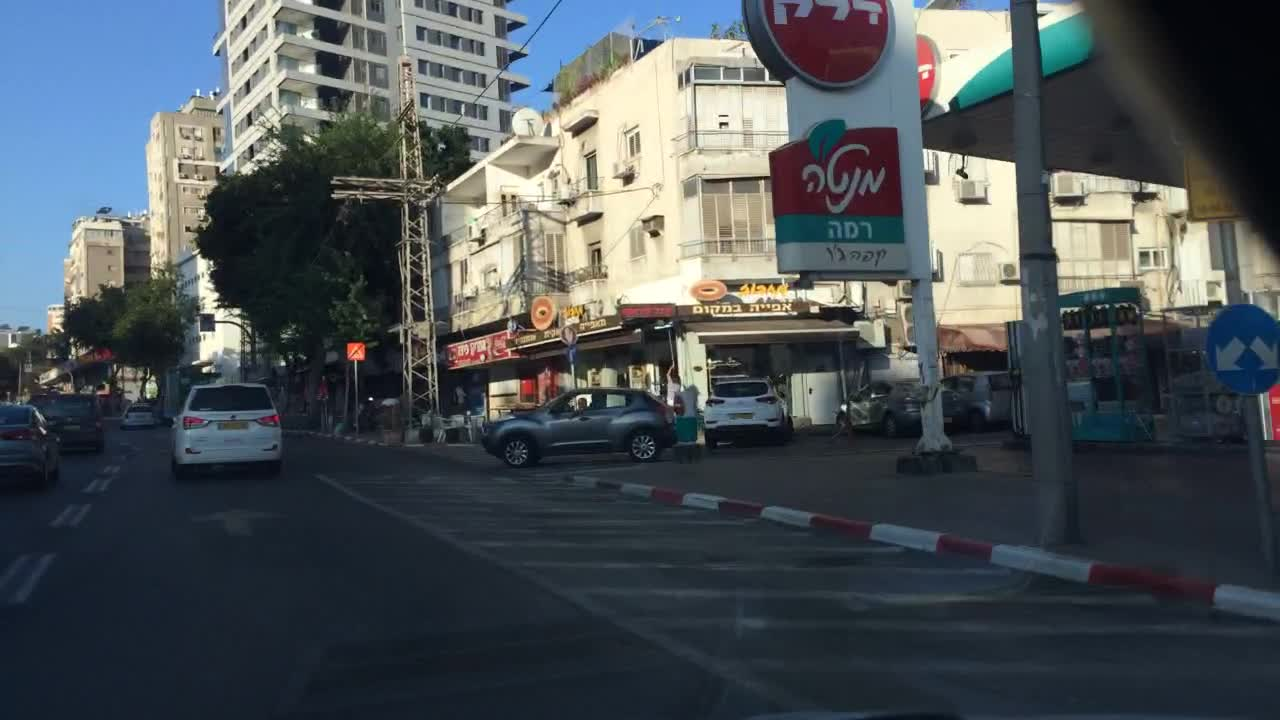car: (481, 385, 676, 466), (172, 380, 285, 469), (836, 380, 960, 438), (700, 378, 795, 451), (0, 402, 63, 484), (938, 373, 1018, 437), (46, 391, 106, 456), (25, 391, 58, 423), (123, 402, 156, 428)
person: (662, 362, 684, 409)
traffic sign: (1202, 303, 1279, 393), (530, 294, 556, 331), (558, 324, 576, 347), (346, 342, 364, 360), (199, 313, 215, 332), (314, 386, 328, 403), (323, 350, 338, 363), (568, 347, 576, 365), (22, 361, 33, 373)
